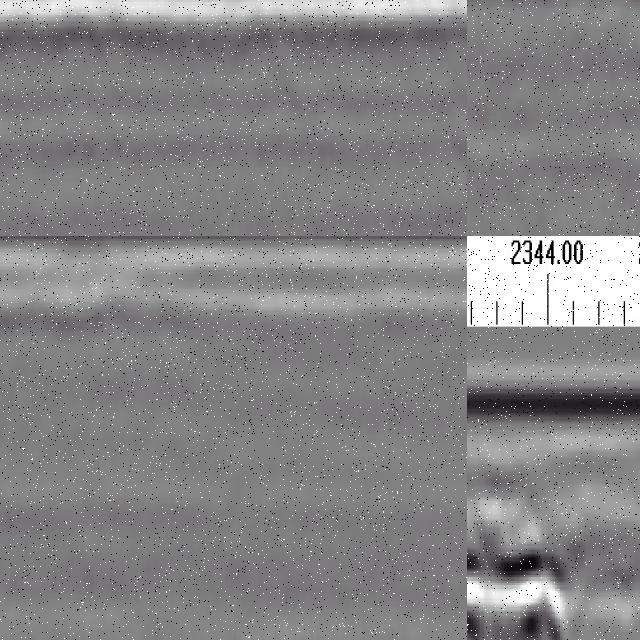loose: (468, 494, 597, 640)
